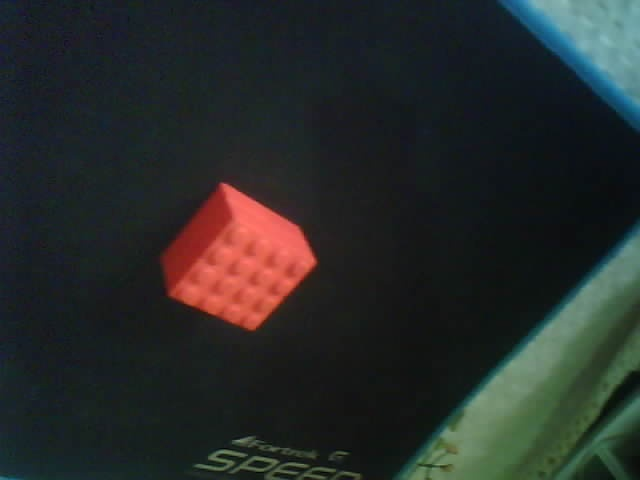lego: (158, 182, 318, 333)
